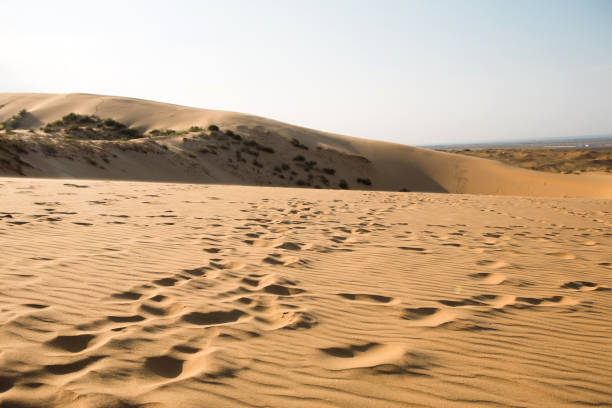human_foot_print: (0, 186, 609, 405), (315, 342, 427, 374), (402, 307, 457, 326), (337, 293, 400, 304), (560, 281, 611, 290)
